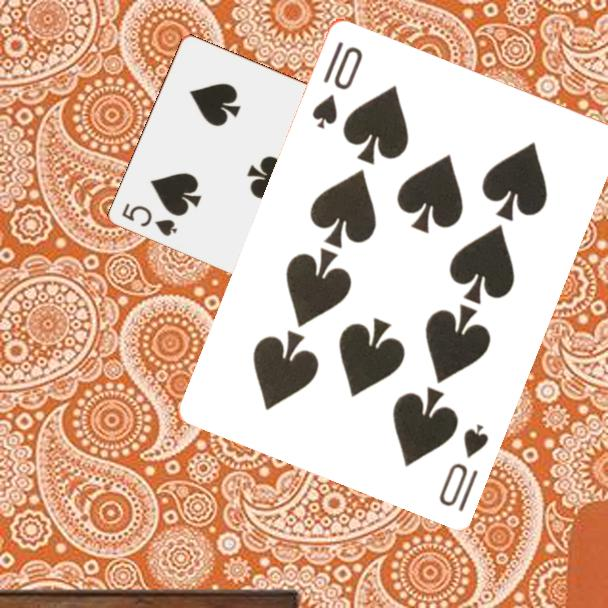s05: (119, 199, 181, 239)
s10: (308, 37, 366, 132), (435, 419, 492, 514)
